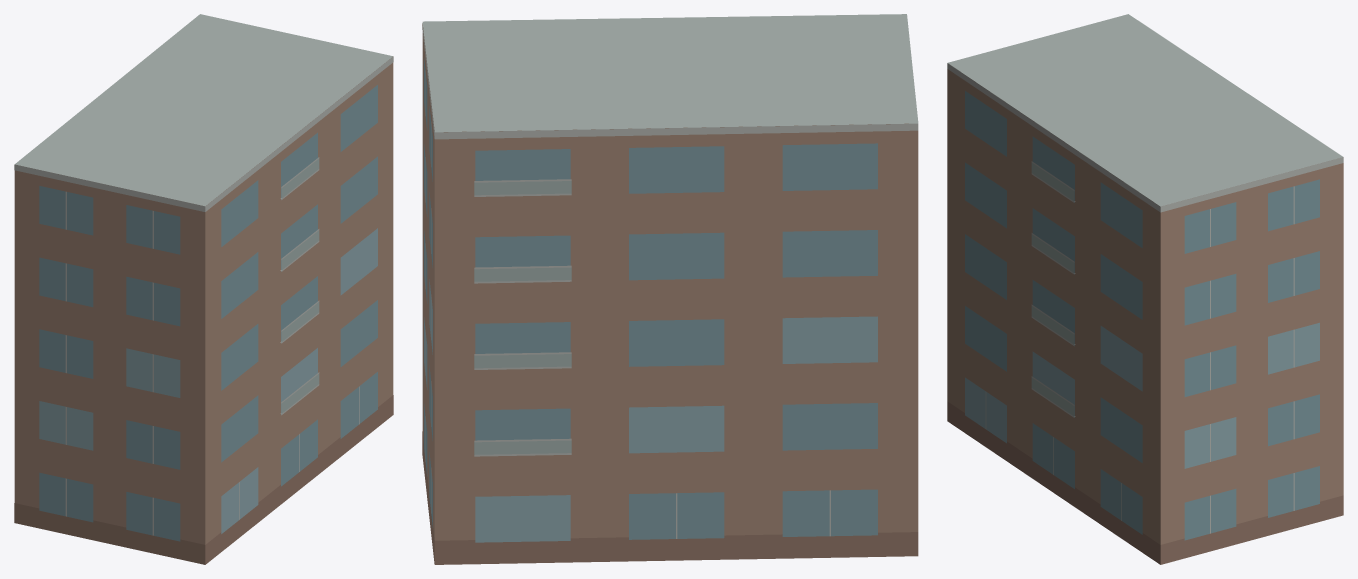
Rendered from survey-upis-32713756.glb.
3 views of the same model, side by side, from view 1: azimuth 30°, elevation 25°; view 2: azimuth 150°, elevation 25°; view 3: azimuth 270°, elevation 25° (orthographic). The views are drawn at different scales.
Visible parts, largest first — view 1: survey-upis-32713756.tmp; view 2: survey-upis-32713756.tmp; view 3: survey-upis-32713756.tmp.
Boxes of the visible parts, x1,y1,x2,y2 form: survey-upis-32713756.tmp: [14, 14, 393, 564]; survey-upis-32713756.tmp: [422, 14, 918, 564]; survey-upis-32713756.tmp: [947, 14, 1343, 564].
Size of the model in its own units: 17.07 by 14.8 by 14.84.
